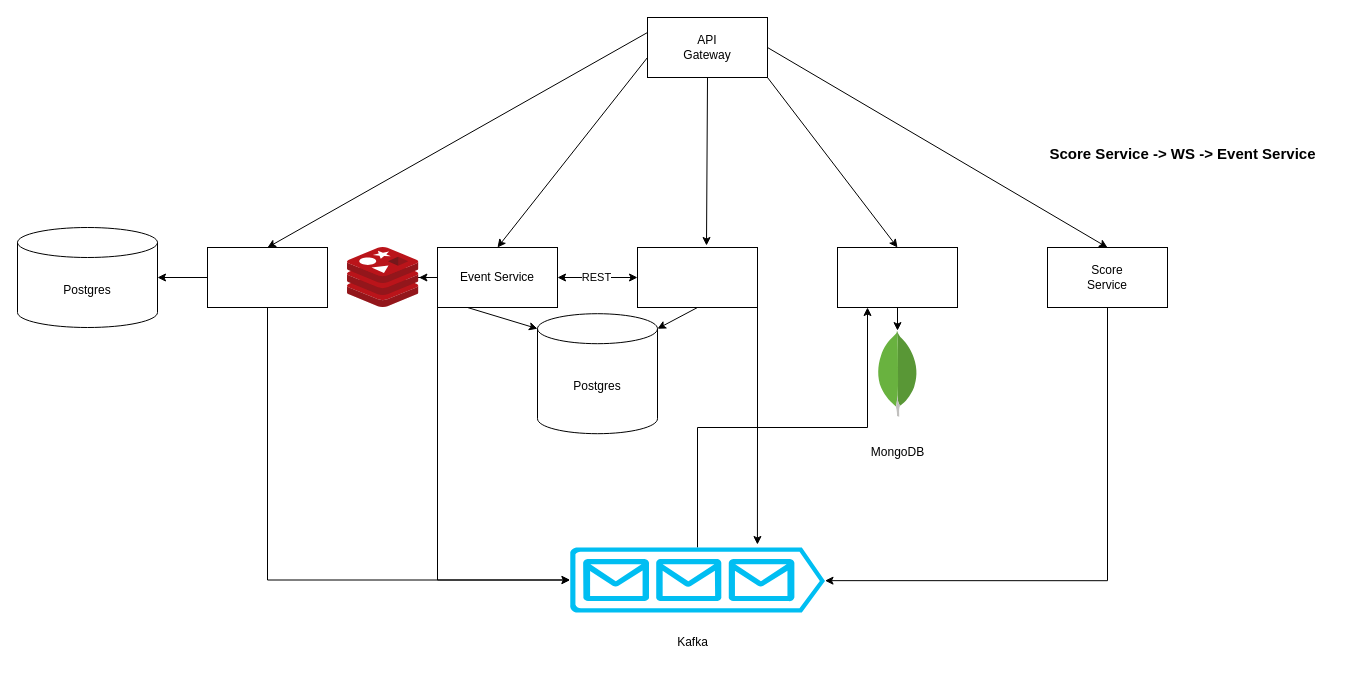
This 1345x675 diagram has some shape labels left out. Here are the shapes that lost their labels. From the top down, the centre of each, then its label:
At (267,277): "User/Auth Service".
At (697,277): "Participaint Service".
At (897,277): "Notification Service".
